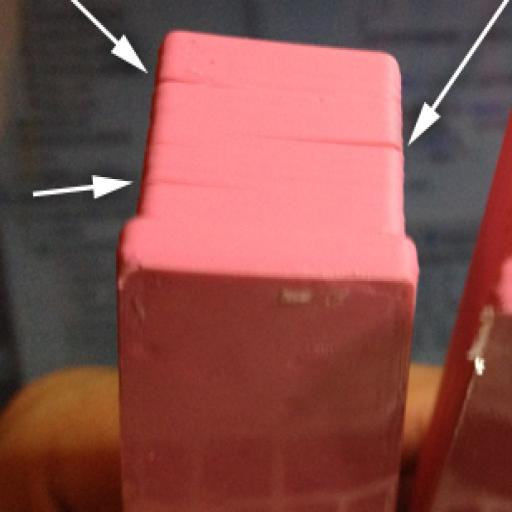cracks: (259, 131, 403, 158), (154, 73, 233, 95), (138, 175, 235, 190)
